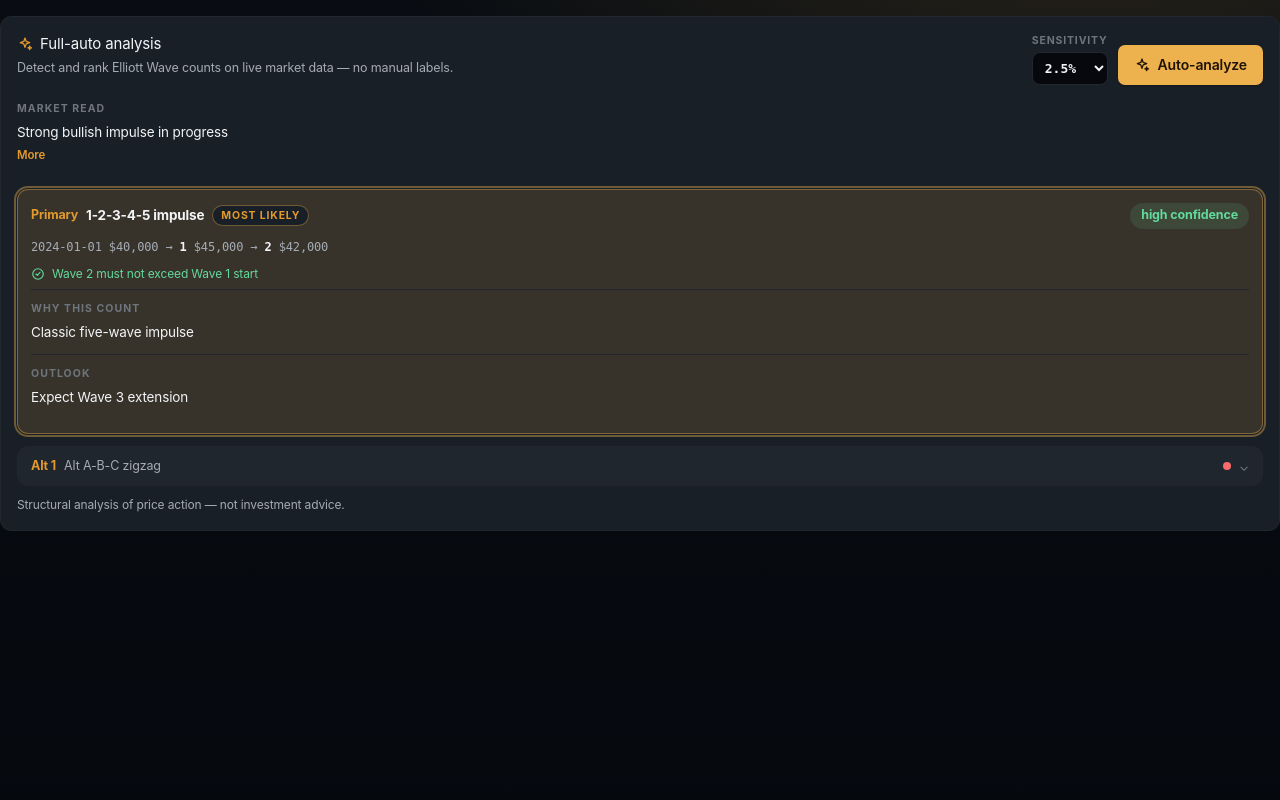
Test case: AutoAnalysisPanel › declutter — only Primary expanded by default (#217) › expands an alternate in place when its row is clicked, then collapses again
Click the button "Alt 1 Alt A-B-C zigzag ⌄".
click(112, 465)  # box [18,447,1262,486]
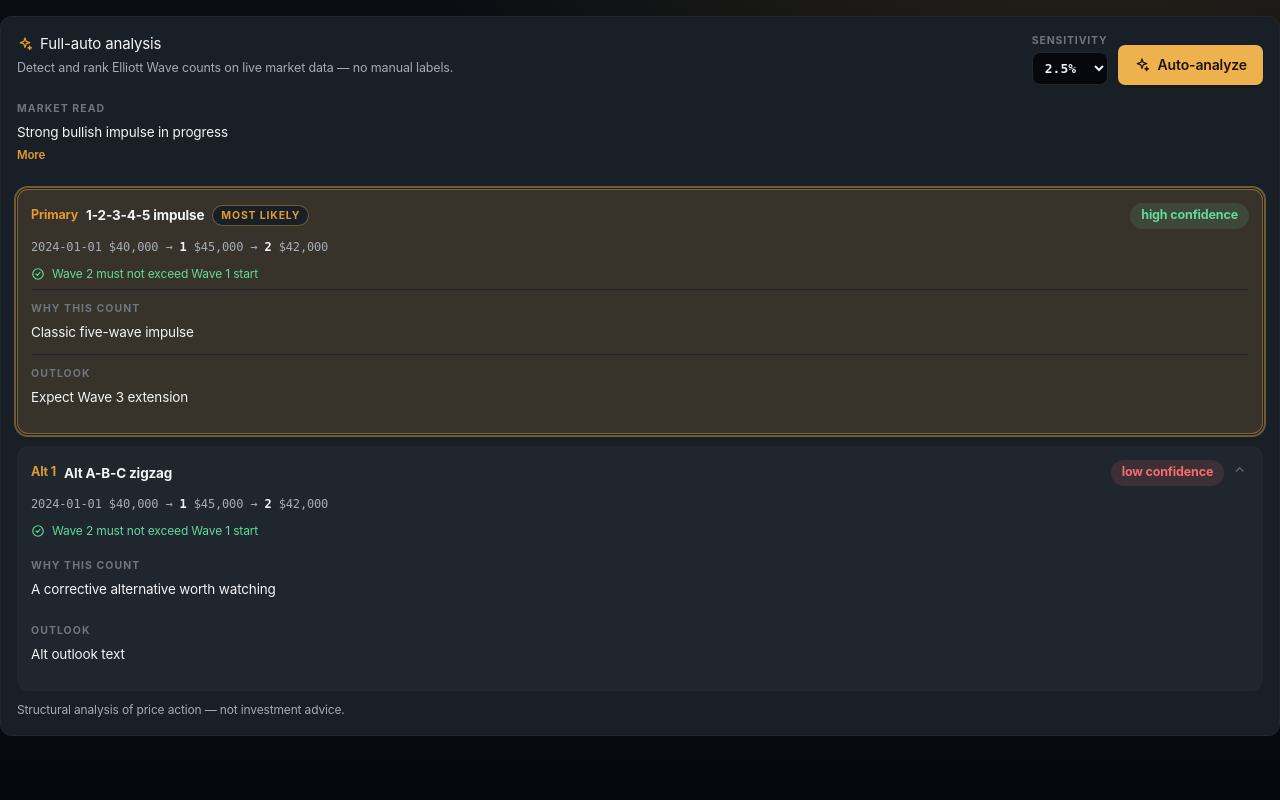
Now the text "A corrective alternative worth watching" is shown, box [31,581,276,597]
Click the button named "collapse alt 1".
click(1240, 473)  # box [1230,464,1249,482]
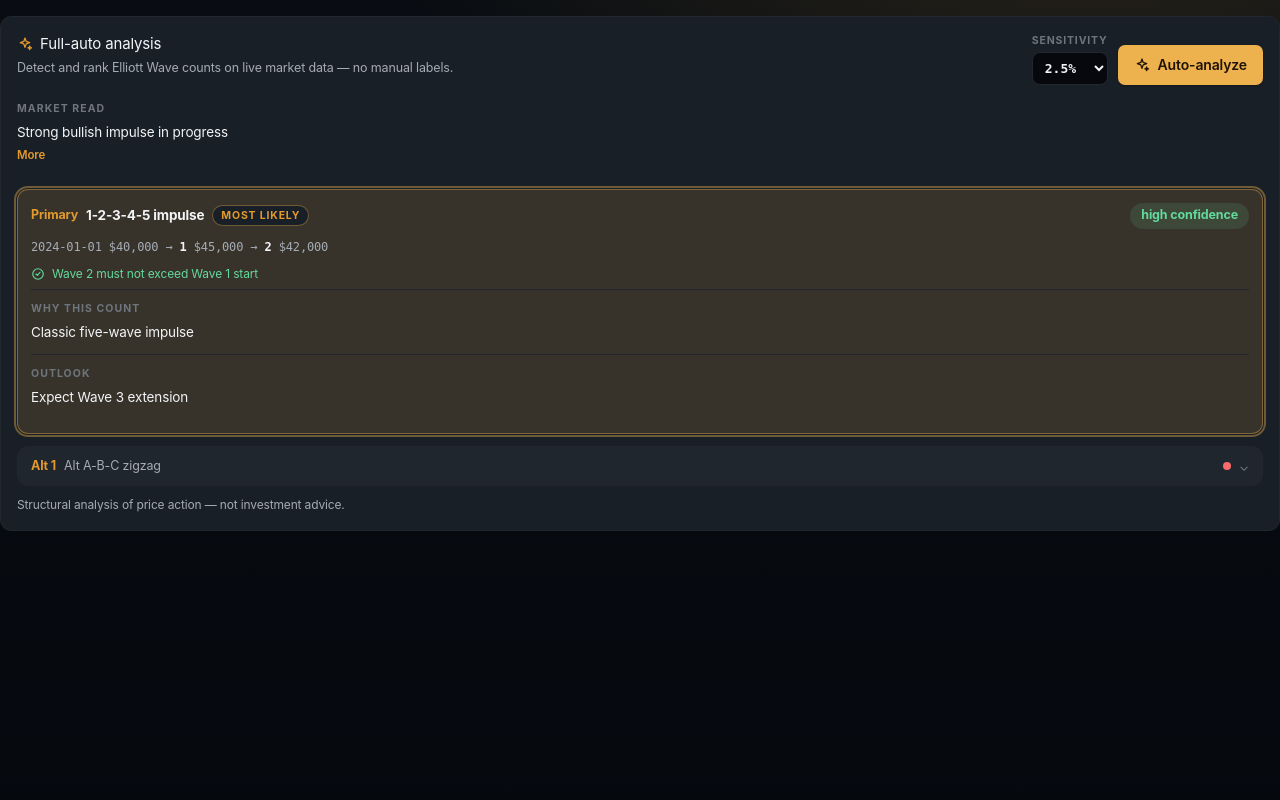
Now the text "A corrective alternative worth watching" is gone
